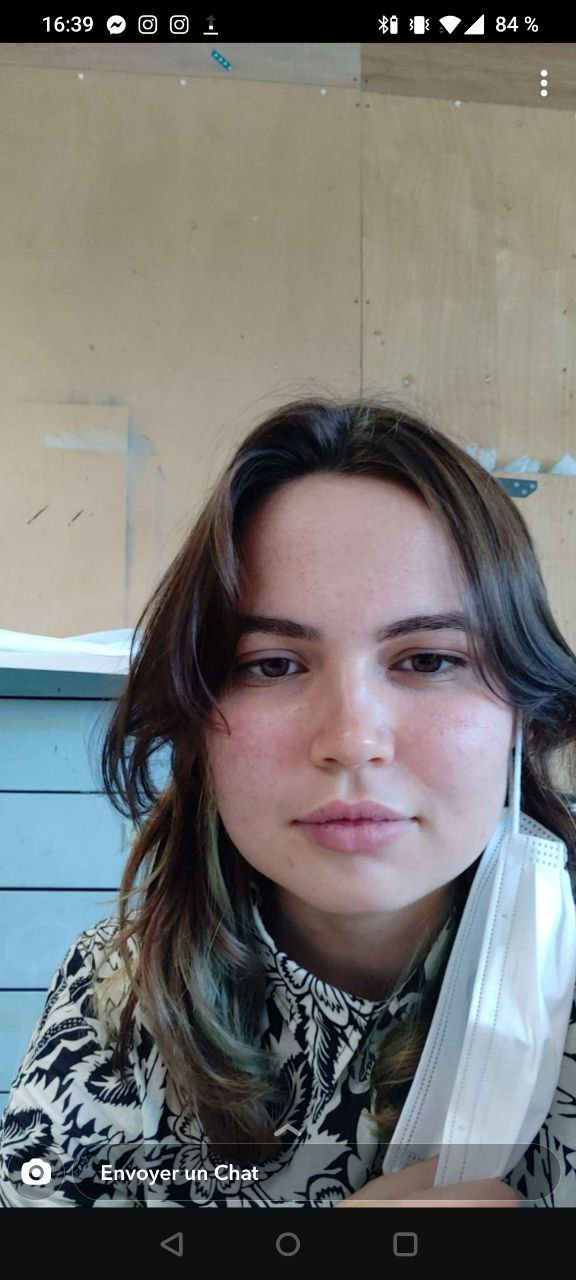without_mask: (181, 469, 531, 903)
